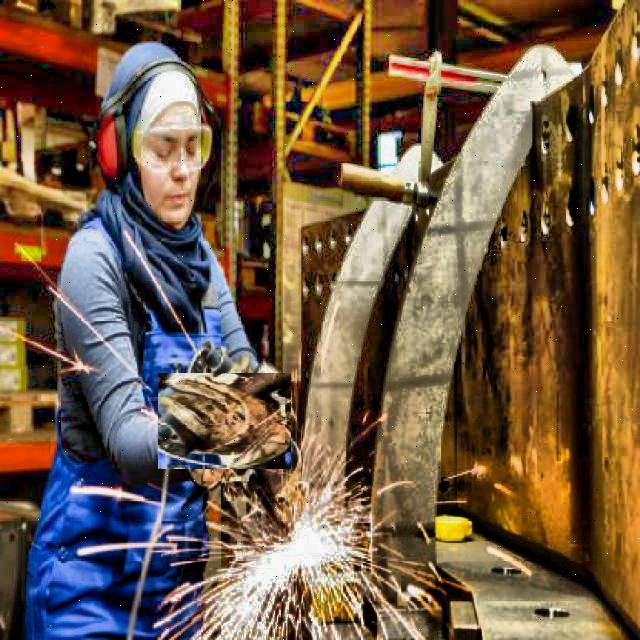gloved: (167, 363, 282, 478)
